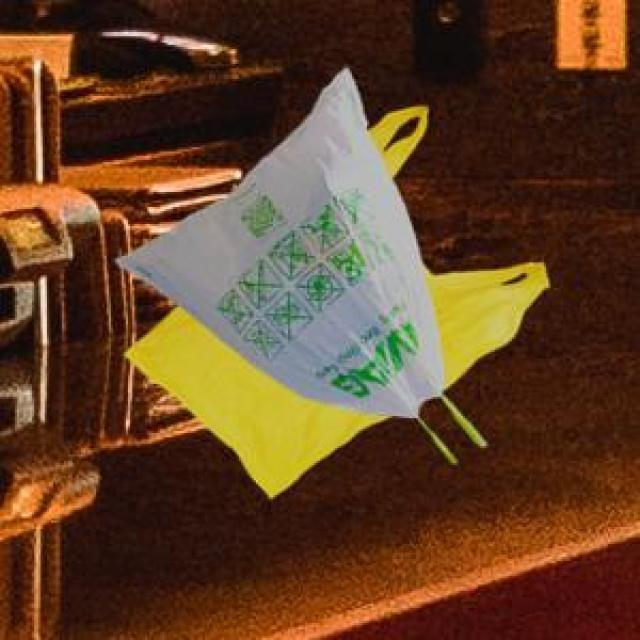waste: (120, 69, 549, 497)
